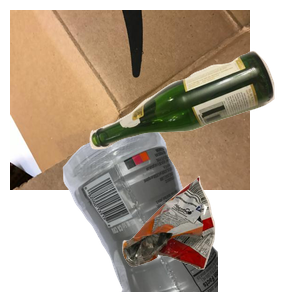cardboard: (10, 10, 250, 190)
glass: (87, 48, 300, 190)
plastic: (60, 120, 300, 300)
trash: (120, 174, 300, 300)
